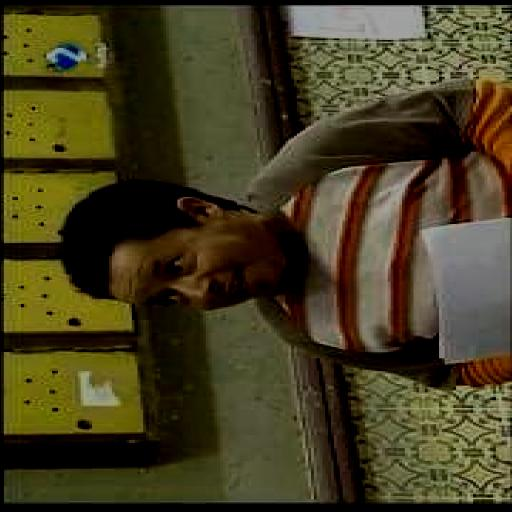fouchika: (60, 182, 284, 310)
